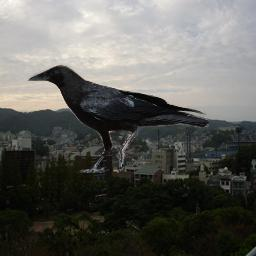Crow: (27, 63, 209, 173)
